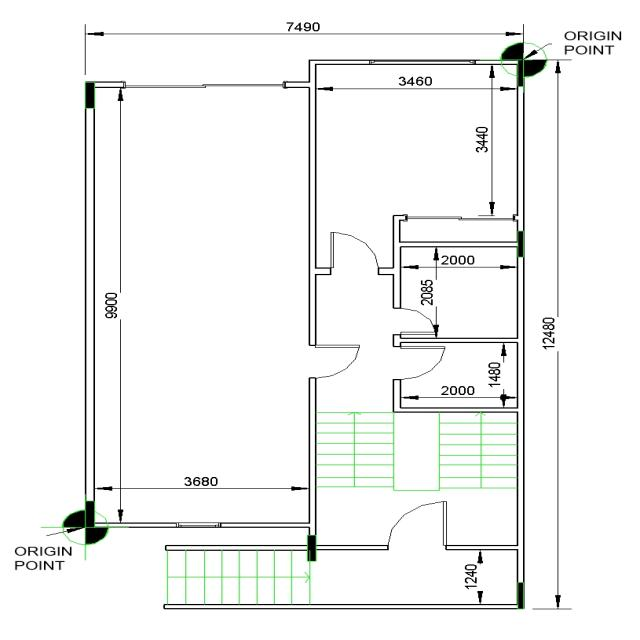Column: (85, 82, 95, 108), (307, 535, 316, 561), (86, 500, 94, 528), (516, 231, 524, 257), (517, 582, 524, 609), (517, 60, 524, 86)
Door: (387, 502, 447, 550), (330, 232, 379, 275), (392, 346, 446, 380), (308, 345, 360, 378), (392, 308, 436, 336)
Sliding Door: (124, 82, 286, 88), (406, 215, 514, 221)
Staircase: (316, 413, 516, 545), (167, 550, 517, 604)
Window: (369, 60, 475, 65), (176, 522, 221, 528)
